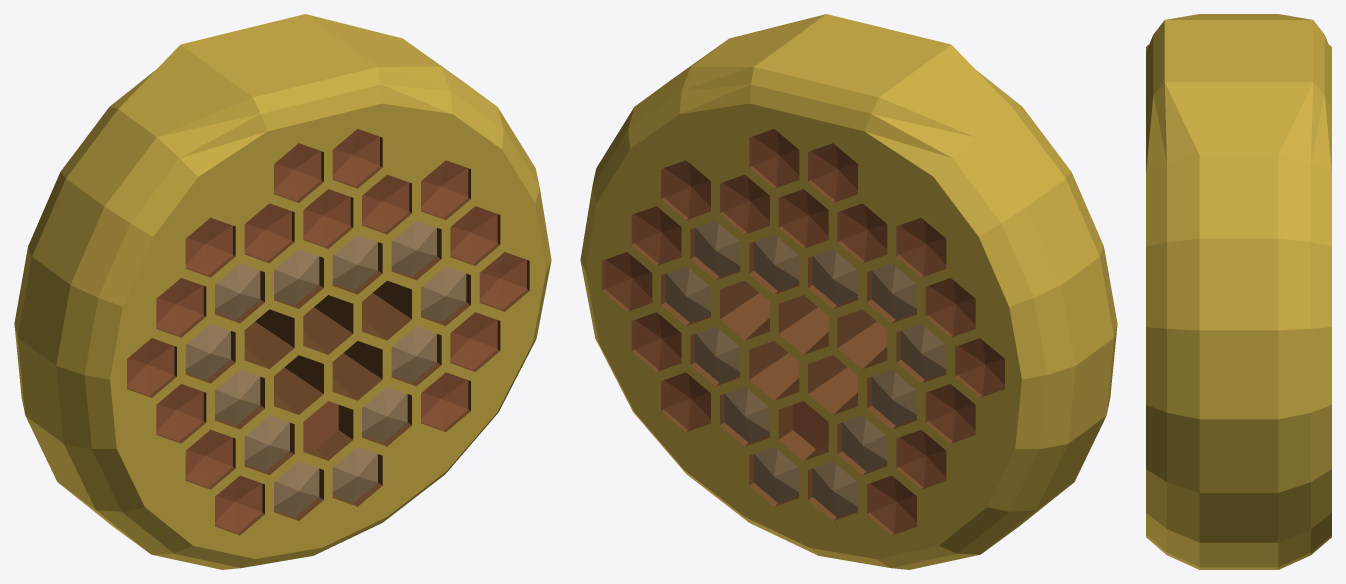
Rendered from wild-honeycomb-panel-877542.glb.
The picture shows the model from 3 angles, left to right: view 1: azimuth 30°, elevation 25°; view 2: azimuth 150°, elevation 25°; view 3: azimuth 270°, elevation 25°; orthographic projection. The views are drawn at different scales.
Visible parts, largest first — view 1: wild-honeycomb-panel-mesh; view 2: wild-honeycomb-panel-mesh; view 3: wild-honeycomb-panel-mesh.
Boxes of the visible parts, left/top/right/bottom form: wild-honeycomb-panel-mesh: left=14, top=14, right=551, bottom=569; wild-honeycomb-panel-mesh: left=580, top=14, right=1117, bottom=569; wild-honeycomb-panel-mesh: left=1146, top=14, right=1331, bottom=569.
Bounding box in the file's own units: 5.02 × 4.75 × 1.6.
